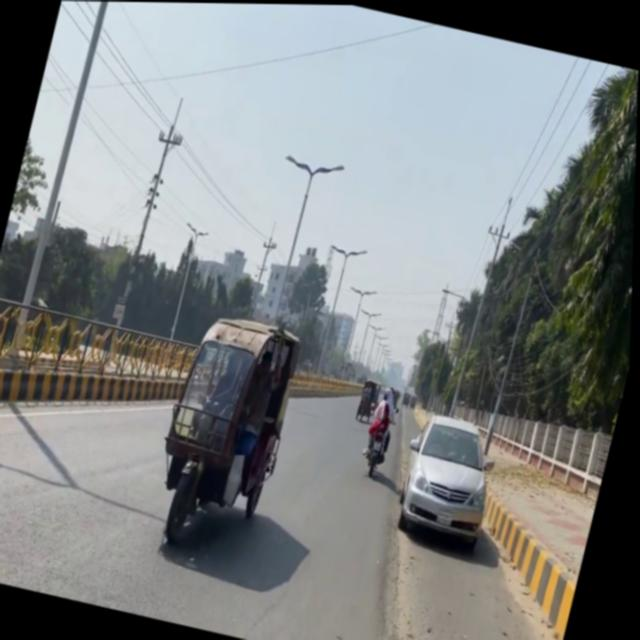Broken-road: (389, 390, 526, 561)
Construction-barrier: (343, 400, 466, 640), (453, 478, 597, 638), (287, 367, 366, 411)
Fallen-tree: (358, 400, 402, 478), (356, 383, 381, 423)
Garbage: (142, 302, 310, 560)
Light-pole: (10, 0, 119, 353)
Pole: (0, 280, 204, 437)
Pothole: (459, 439, 606, 586)
